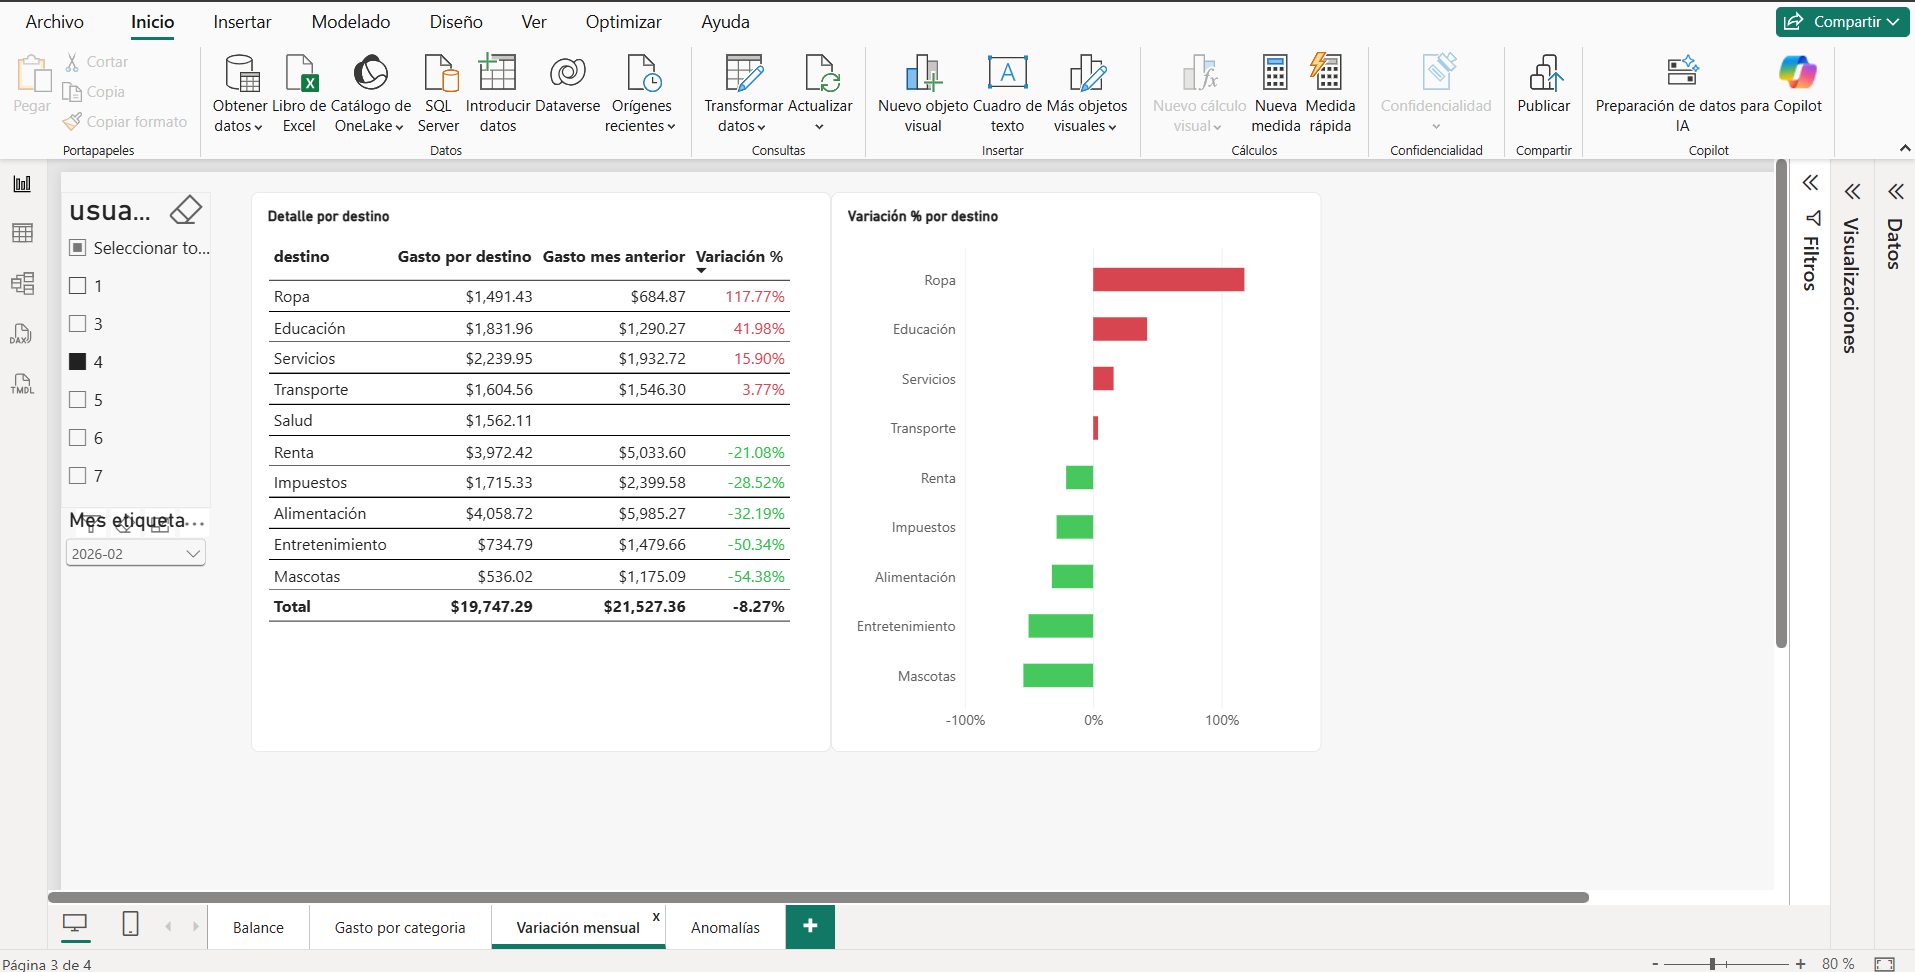

Layout of this report page (visuals, bound fields, positions):
{"tool":"powerbi","page":{"name":"Variación mensual","canvas":[1920,1080],"ordinal":2},"visuals":[{"type":"slicer","fields":{"Values":["dim_usuario.usuario_id"]},"box":[0,20,150,315.7],"z":0},{"type":"slicer","fields":{"Values":["dim_mes.Mes etiqueta"]},"box":[0,335.7,150,90],"z":1},{"type":"tableEx","title":"Detalle por destino","fields":{"Values":["gasto_por_destino_mensual.destino","gasto_por_destino_mensual.Gasto por destino","gasto_por_destino_mensual.Gasto mes anterior","gasto_por_destino_mensual.Variación %"]},"box":[190,20,580,560],"z":2},{"type":"textbox","box":[1432,20,150,256],"z":3},{"type":"clusteredBarChart","title":"Variación % por destino","fields":{"Category":["gasto_por_destino_mensual.destino"],"Y":["gasto_por_destino_mensual.Variación %"]},"box":[770,20,490,560],"z":5}]}

Visuals, with their boxes on the page's 1920x1080 design canvas (x1, y1, x2, y2). These are canvas units, not pixel positions in the 1915x972 screenshot, which may show the page scaled, cropped or inside an application window:
slicer - dim_usuario.usuario_id: 0/20/150/336
slicer - dim_mes.Mes etiqueta: 0/336/150/426
"Detalle por destino" tableEx: 190/20/770/580
textbox: 1432/20/1582/276
"Variación % por destino" clusteredBarChart: 770/20/1260/580
